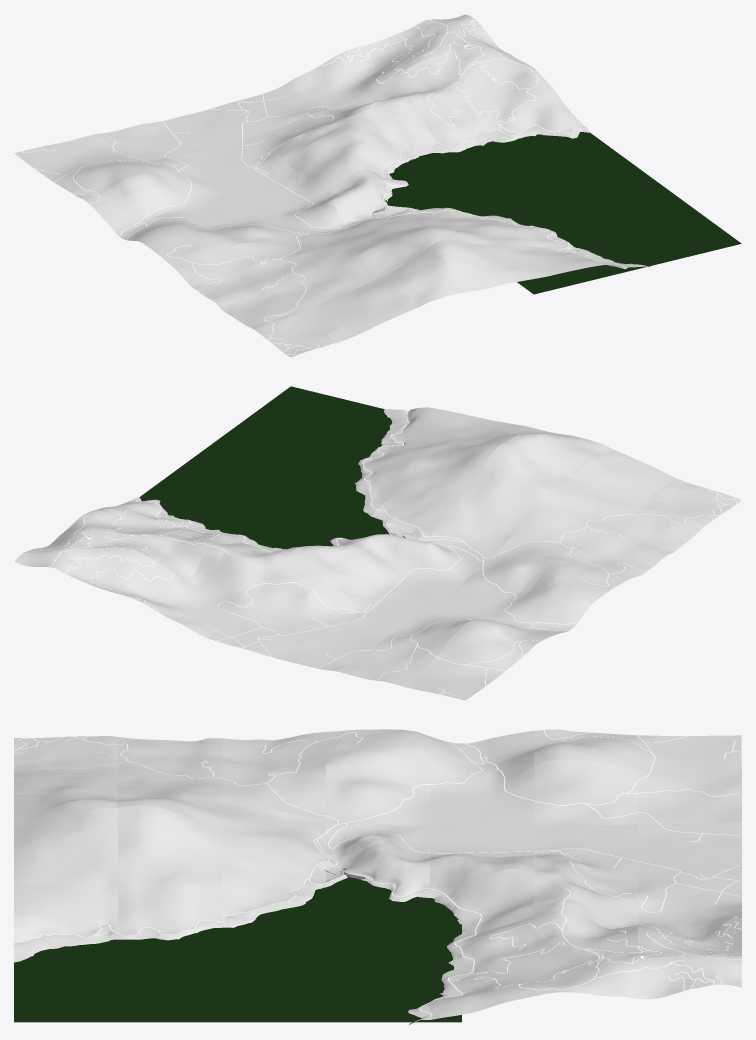
The model's file is Msh_Terrain.glb.
The picture shows the model from 3 angles, top to bottom: view 1: azimuth 30°, elevation 25°; view 2: azimuth 150°, elevation 25°; view 3: azimuth 270°, elevation 25°; orthographic projection. The views are drawn at different scales.
Parts seen in each view (by area): view 1: Msh_Water, Msh_Sec4_Bloque43, Msh_Sec4_Bloque24, Msh_Sec4_Bloque21, Msh_Roads, Msh_Sec4_Bloque37, Msh_Sec4_Bloque29, Msh_Sec4_Bloque38, Msh_Sec4_Bloque42, Msh_Sec4_Bloque14, Msh_Sec4_Bloque5, Msh_Sec4_Bloque36 (+29 smaller); view 2: Msh_Water, Msh_Sec4_Bloque23, Msh_Sec4_Bloque19, Msh_Sec4_Bloque20, Msh_Sec4_Bloque30, Msh_Sec4_Bloque36, Msh_Sec4_Bloque26, Msh_Roads, Msh_Sec4_Bloque13, Msh_Sec4_Bloque18, Msh_Sec4_Bloque14, Msh_Sec4_Bloque12 (+31 smaller); view 3: Msh_Water, Msh_Sec4_Bloque27, Msh_Sec4_Bloque9, Msh_Sec4_Bloque28, Msh_Sec4_Bloque34, Msh_Sec4_Bloque35, Msh_Sec4_Bloque11, Msh_Sec4_Bloque26, Msh_Sec4_Bloque10, Msh_Sec4_Bloque8, Msh_Roads, Msh_Sec4_Bloque41 (+31 smaller).
Part boxes in pixels (x1,y1,x2,y2): Msh_Water: [386, 132, 741, 294]; Msh_Sec4_Bloque43: [480, 79, 583, 139]; Msh_Sec4_Bloque24: [287, 125, 389, 191]; Msh_Sec4_Bloque21: [380, 240, 483, 306]; Msh_Roads: [22, 17, 624, 354]; Msh_Sec4_Bloque37: [376, 56, 479, 111]; Msh_Sec4_Bloque29: [272, 55, 375, 114]; Msh_Sec4_Bloque38: [416, 99, 514, 152]; Msh_Sec4_Bloque42: [441, 45, 543, 99]; Msh_Sec4_Bloque14: [316, 277, 419, 336]; Msh_Sec4_Bloque5: [172, 244, 275, 299]; Msh_Sec4_Bloque36: [337, 32, 439, 90]; Msh_Water: [139, 386, 391, 549]; Msh_Sec4_Bloque23: [247, 556, 350, 627]; Msh_Sec4_Bloque19: [430, 487, 533, 554]; Msh_Sec4_Bloque20: [470, 440, 572, 509]; Msh_Sec4_Bloque30: [183, 544, 285, 603]; Msh_Sec4_Bloque36: [79, 546, 181, 603]; Msh_Sec4_Bloque26: [371, 480, 468, 536]; Msh_Roads: [22, 412, 737, 697]; Msh_Sec4_Bloque13: [534, 478, 637, 535]; Msh_Sec4_Bloque18: [391, 537, 493, 587]; Msh_Sec4_Bloque14: [574, 449, 676, 505]; Msh_Sec4_Bloque12: [495, 510, 597, 560]; Msh_Water: [14, 877, 461, 1022]; Msh_Sec4_Bloque27: [118, 805, 221, 883]; Msh_Sec4_Bloque9: [534, 759, 637, 825]; Msh_Sec4_Bloque28: [14, 807, 117, 878]; Msh_Sec4_Bloque34: [118, 875, 221, 940]; Msh_Sec4_Bloque35: [14, 875, 117, 939]; Msh_Sec4_Bloque11: [326, 765, 429, 825]; Msh_Sec4_Bloque26: [222, 831, 326, 897]; Msh_Sec4_Bloque10: [430, 767, 533, 825]; Msh_Sec4_Bloque8: [638, 771, 741, 823]; Msh_Roads: [14, 730, 741, 1016]; Msh_Sec4_Bloque41: [638, 940, 741, 999].
Bounding box in the file's own units: 4174 × 422 × 4431.
